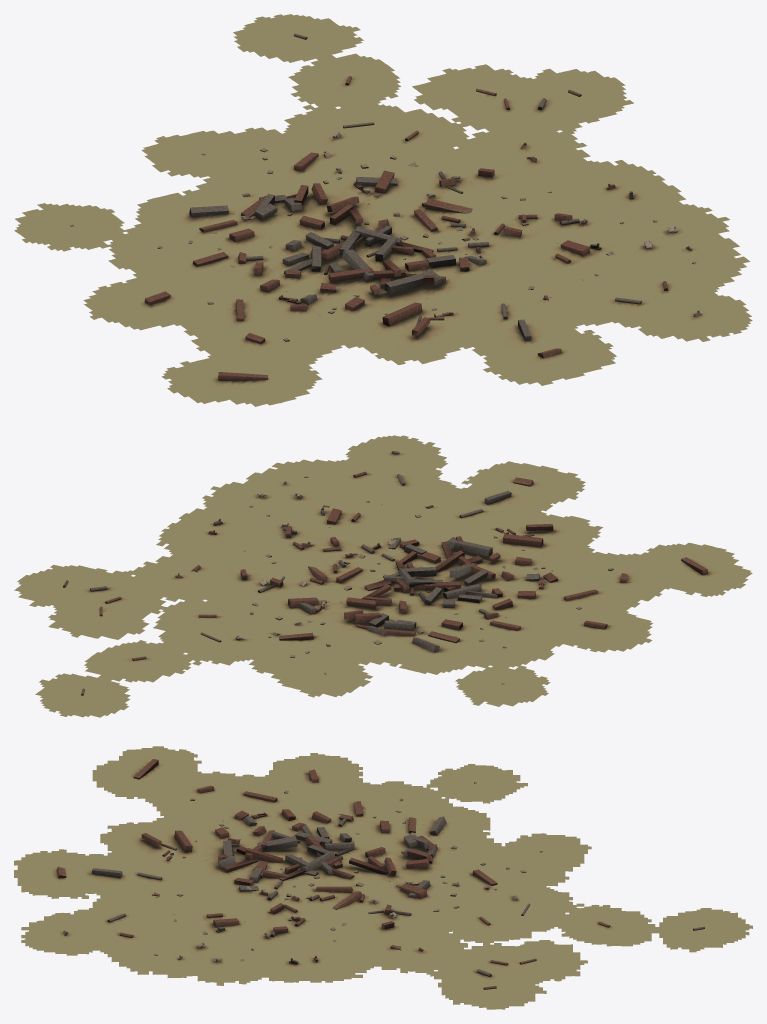
The picture shows the model from 3 angles, top to bottom: view 1: azimuth 30°, elevation 25°; view 2: azimuth 150°, elevation 25°; view 3: azimuth 270°, elevation 25°; orthographic projection. The views are drawn at different scales.
Visible parts, largest first — view 1: sediment, blocks, columns; view 2: sediment, blocks, columns; view 3: sediment, blocks, columns.
Boxes of the visible parts, x1,y1,x2,y2 form: sediment: (14,14,752,406); blocks: (70,148,696,380); columns: (240,33,677,325); sediment: (14,435,752,717); blocks: (243,476,708,684); columns: (63,471,534,695); sediment: (14,746,752,1009); blocks: (56,759,542,961); columns: (107,818,704,989).
Size of the model in its own units: 166 by 5.12 by 197.
Materials: 2 (1 with a texture image).
